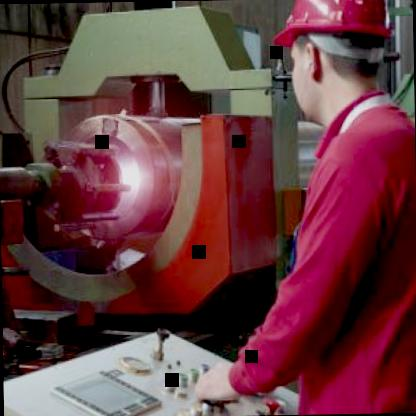helmet: (265, 0, 406, 122)
